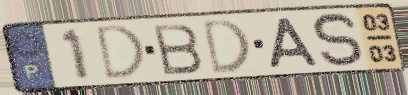1: (58, 28, 96, 83)
A: (268, 16, 323, 71)
B: (150, 21, 206, 77)
D: (94, 22, 148, 83), (200, 16, 252, 77)
S: (310, 10, 366, 70)
